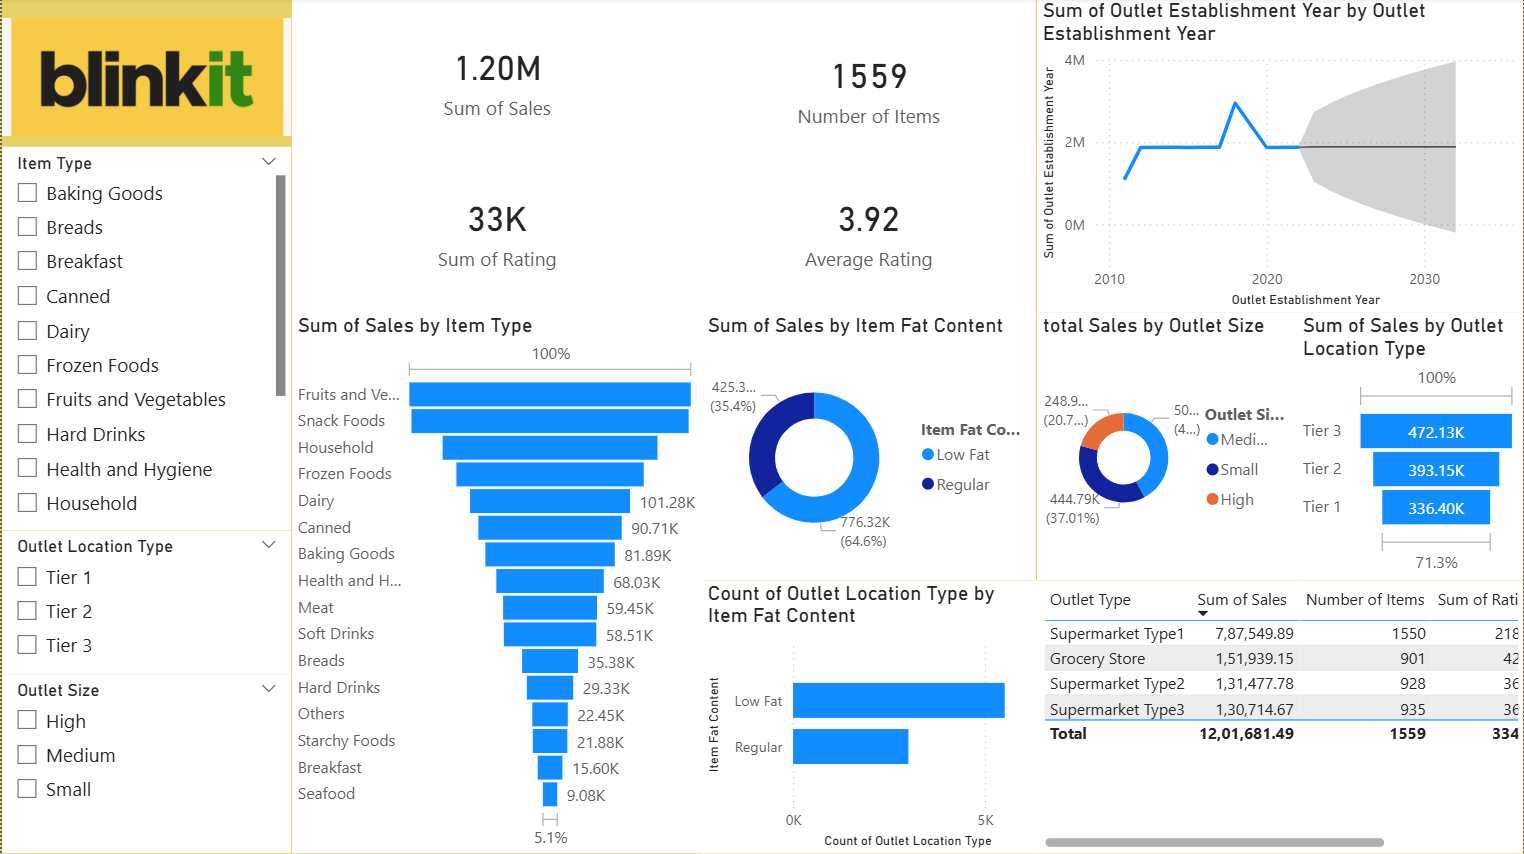

Layout of this report page (visuals, bound fields, positions):
{"tool":"powerbi","page":{"name":"Page 1","canvas":[1280,720],"ordinal":0},"visuals":[{"type":"lineChart","fields":{"Category":["BlinkIT Grocery Data.Outlet Establishment Year"],"Y":["Sum(BlinkIT Grocery Data.Outlet Establishment Year)"]},"box":[870.1,0,410.2,264.9],"z":0},{"type":"card","fields":{"Values":["Sum(BlinkIT Grocery Data.Rating)"]},"box":[243.4,125.1,345.6,139.9],"z":1000},{"type":"card","fields":{"Values":["Sum(BlinkIT Grocery Data.Sales)"]},"box":[243.4,0,345.6,135.8],"z":2000},{"type":"tableEx","fields":{"Values":["BlinkIT Grocery Data.Outlet Type","Sum(BlinkIT Grocery Data.Sales)","BlinkIT Grocery Data.Number of Items","Sum(BlinkIT Grocery Data.Rating)","Sum(BlinkIT Grocery Data.Item Visibility)"]},"box":[870.1,489.5,410.2,230],"z":5000},{"type":"slicer","fields":{"Values":["BlinkIT Grocery Data.Outlet Location Type"]},"box":[0,447.8,243.4,121],"z":6000},{"type":"slicer","fields":{"Values":["BlinkIT Grocery Data.Outlet Size"]},"box":[0,568.9,243.4,150.6],"z":7000},{"type":"slicer","fields":{"Values":["BlinkIT Grocery Data.Item Type"]},"box":[0,125.1,243.4,322.8],"z":8000},{"type":"card","fields":{"Values":["BlinkIT Grocery Data.Number of Items"]},"box":[589,0,281.1,149.3],"z":9000},{"type":"card","fields":{"Values":["BlinkIT Grocery Data.Average Rating"]},"box":[589,119.7,281.1,150.6],"z":10000},{"type":"donutChart","fields":{"Category":["BlinkIT Grocery Data.Outlet Size"],"Y":["BlinkIT Grocery Data.total Sales"]},"box":[870.1,264.9,219.2,224.6],"z":11000},{"type":"funnel","fields":{"Category":["BlinkIT Grocery Data.Outlet Location Type","BlinkIT Grocery Data.Item Type"],"Y":["Sum(BlinkIT Grocery Data.Sales)"]},"box":[1089.3,264.9,191,224.6],"z":11001},{"type":"donutChart","fields":{"Category":["BlinkIT Grocery Data.Item Fat Content"],"Y":["Sum(BlinkIT Grocery Data.Sales)"]},"box":[589,264.9,281.1,224.6],"z":11002},{"type":"barChart","fields":{"Category":["BlinkIT Grocery Data.Item Fat Content"],"Y":["CountNonNull(BlinkIT Grocery Data.Outlet Location Type)"]},"box":[589,489.5,282.4,230],"z":11003},{"type":"funnel","fields":{"Y":["Sum(BlinkIT Grocery Data.Sales)"],"Category":["BlinkIT Grocery Data.Item Type"]},"box":[243.4,264.9,345.6,454.6],"z":11004},{"type":"image","box":[0,0,243.4,133.1],"z":11005}]}

Visuals, with their boxes in screenshot pixels (x1, y1, x2, y2), scaled from the page's 1280x720 canvas onto the 1524x854 screenshot:
lineChart - BlinkIT Grocery Data.Outlet Establishment Year x Sum(BlinkIT Grocery Data.Outlet Establishment Year): crop(1036, 0, 1523, 314)
card - Sum(BlinkIT Grocery Data.Rating): crop(290, 148, 701, 314)
card - Sum(BlinkIT Grocery Data.Sales): crop(290, 0, 701, 161)
tableEx - BlinkIT Grocery Data.Outlet Type x Sum(BlinkIT Grocery Data.Sales): crop(1036, 581, 1523, 853)
slicer - BlinkIT Grocery Data.Outlet Location Type: crop(0, 531, 290, 675)
slicer - BlinkIT Grocery Data.Outlet Size: crop(0, 675, 290, 853)
slicer - BlinkIT Grocery Data.Item Type: crop(0, 148, 290, 531)
card - BlinkIT Grocery Data.Number of Items: crop(701, 0, 1036, 177)
card - BlinkIT Grocery Data.Average Rating: crop(701, 142, 1036, 321)
donutChart - BlinkIT Grocery Data.Outlet Size x BlinkIT Grocery Data.total Sales: crop(1036, 314, 1297, 581)
funnel - BlinkIT Grocery Data.Outlet Location Type x BlinkIT Grocery Data.Item Type: crop(1297, 314, 1523, 581)
donutChart - BlinkIT Grocery Data.Item Fat Content x Sum(BlinkIT Grocery Data.Sales): crop(701, 314, 1036, 581)
barChart - BlinkIT Grocery Data.Item Fat Content x CountNonNull(BlinkIT Grocery Data.Outlet Location Type): crop(701, 581, 1038, 853)
funnel - Sum(BlinkIT Grocery Data.Sales) x BlinkIT Grocery Data.Item Type: crop(290, 314, 701, 853)
image: crop(0, 0, 290, 158)
